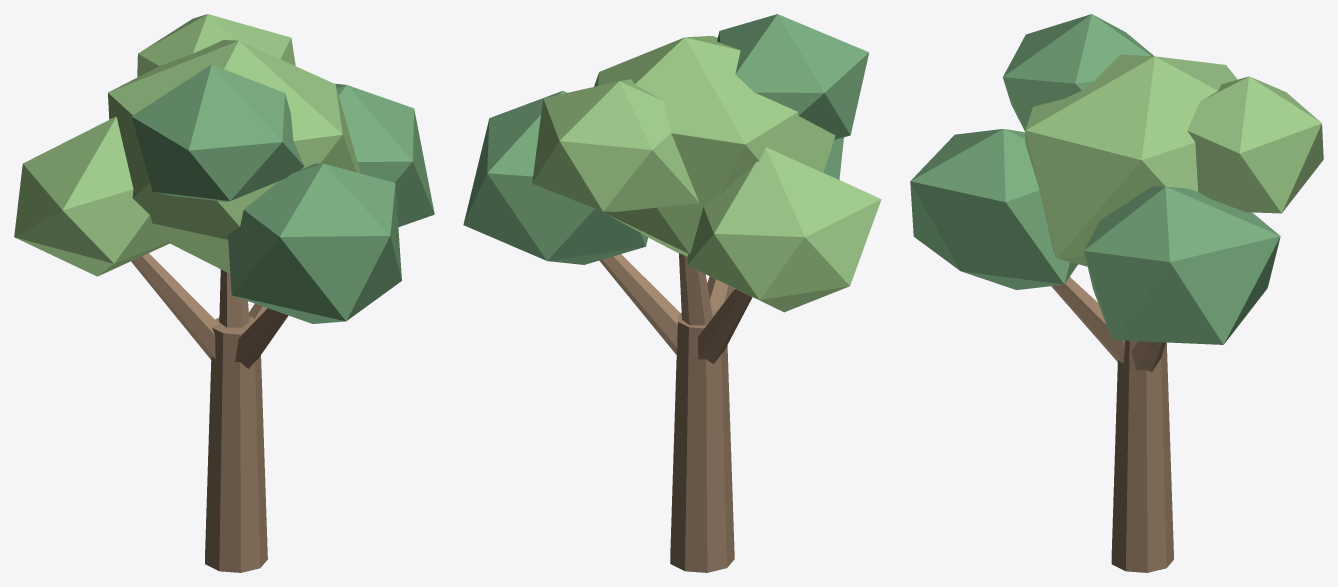
Rendered from Tree_Oak.fbx.
3 renders of one model, left to right at view 1: azimuth 30°, elevation 25°; view 2: azimuth 150°, elevation 25°; view 3: azimuth 270°, elevation 25°, orthographic. The views are drawn at different scales.
Visible parts, largest first — view 1: Tree_Oak_Mesh; view 2: Tree_Oak_Mesh; view 3: Tree_Oak_Mesh.
Boxes of the visible parts, box(x1,y1,x2,y2) form: Tree_Oak_Mesh: box(14, 14, 434, 572); Tree_Oak_Mesh: box(463, 14, 881, 572); Tree_Oak_Mesh: box(910, 14, 1323, 572).
Size of the model in its own units: 6.02 by 8.05 by 5.78.
